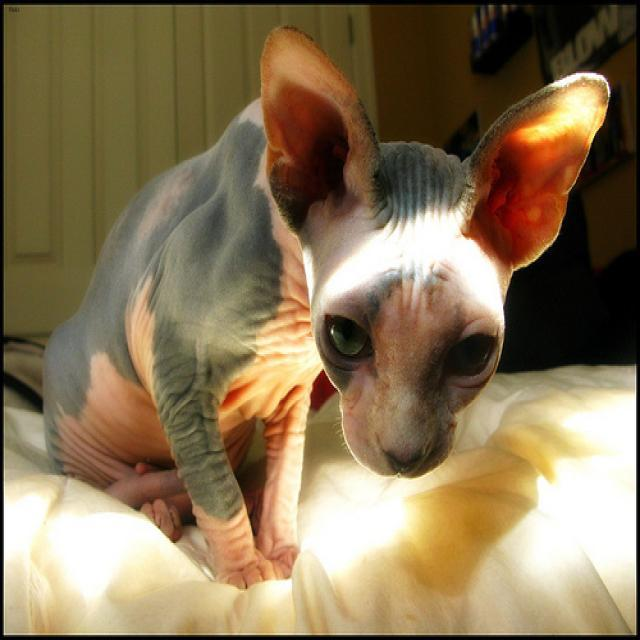Sphynx: (252, 0, 612, 484)
